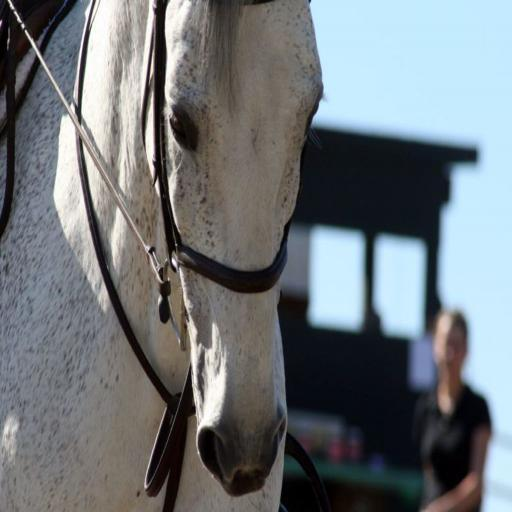Horse: (0, 0, 330, 511)
